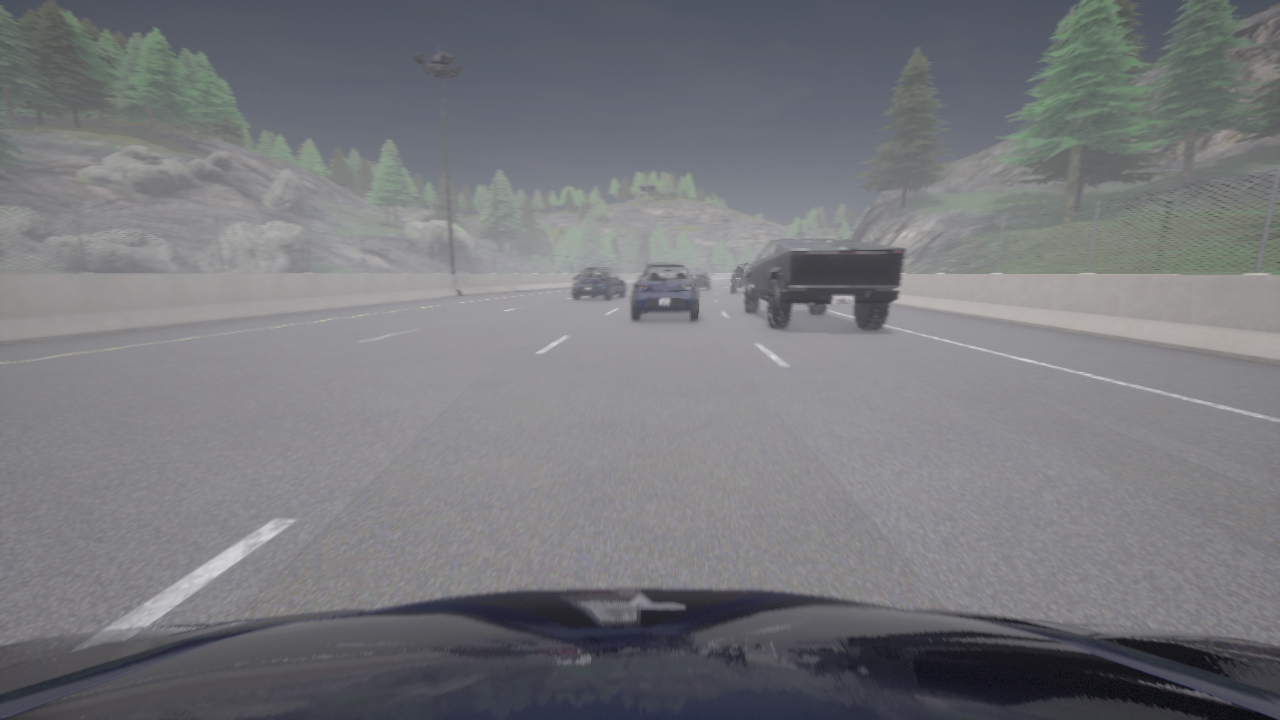cyclist: (0, 588, 1279, 719), (743, 238, 904, 329), (631, 263, 699, 321), (572, 268, 625, 299), (731, 265, 749, 293), (689, 269, 712, 290)
